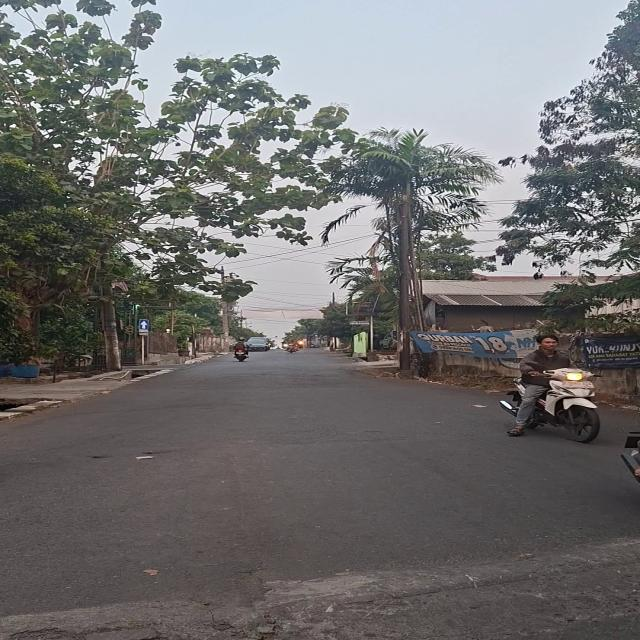WithHelmet: (232, 337, 250, 357)
WithoutHelmet: (495, 337, 610, 442)
